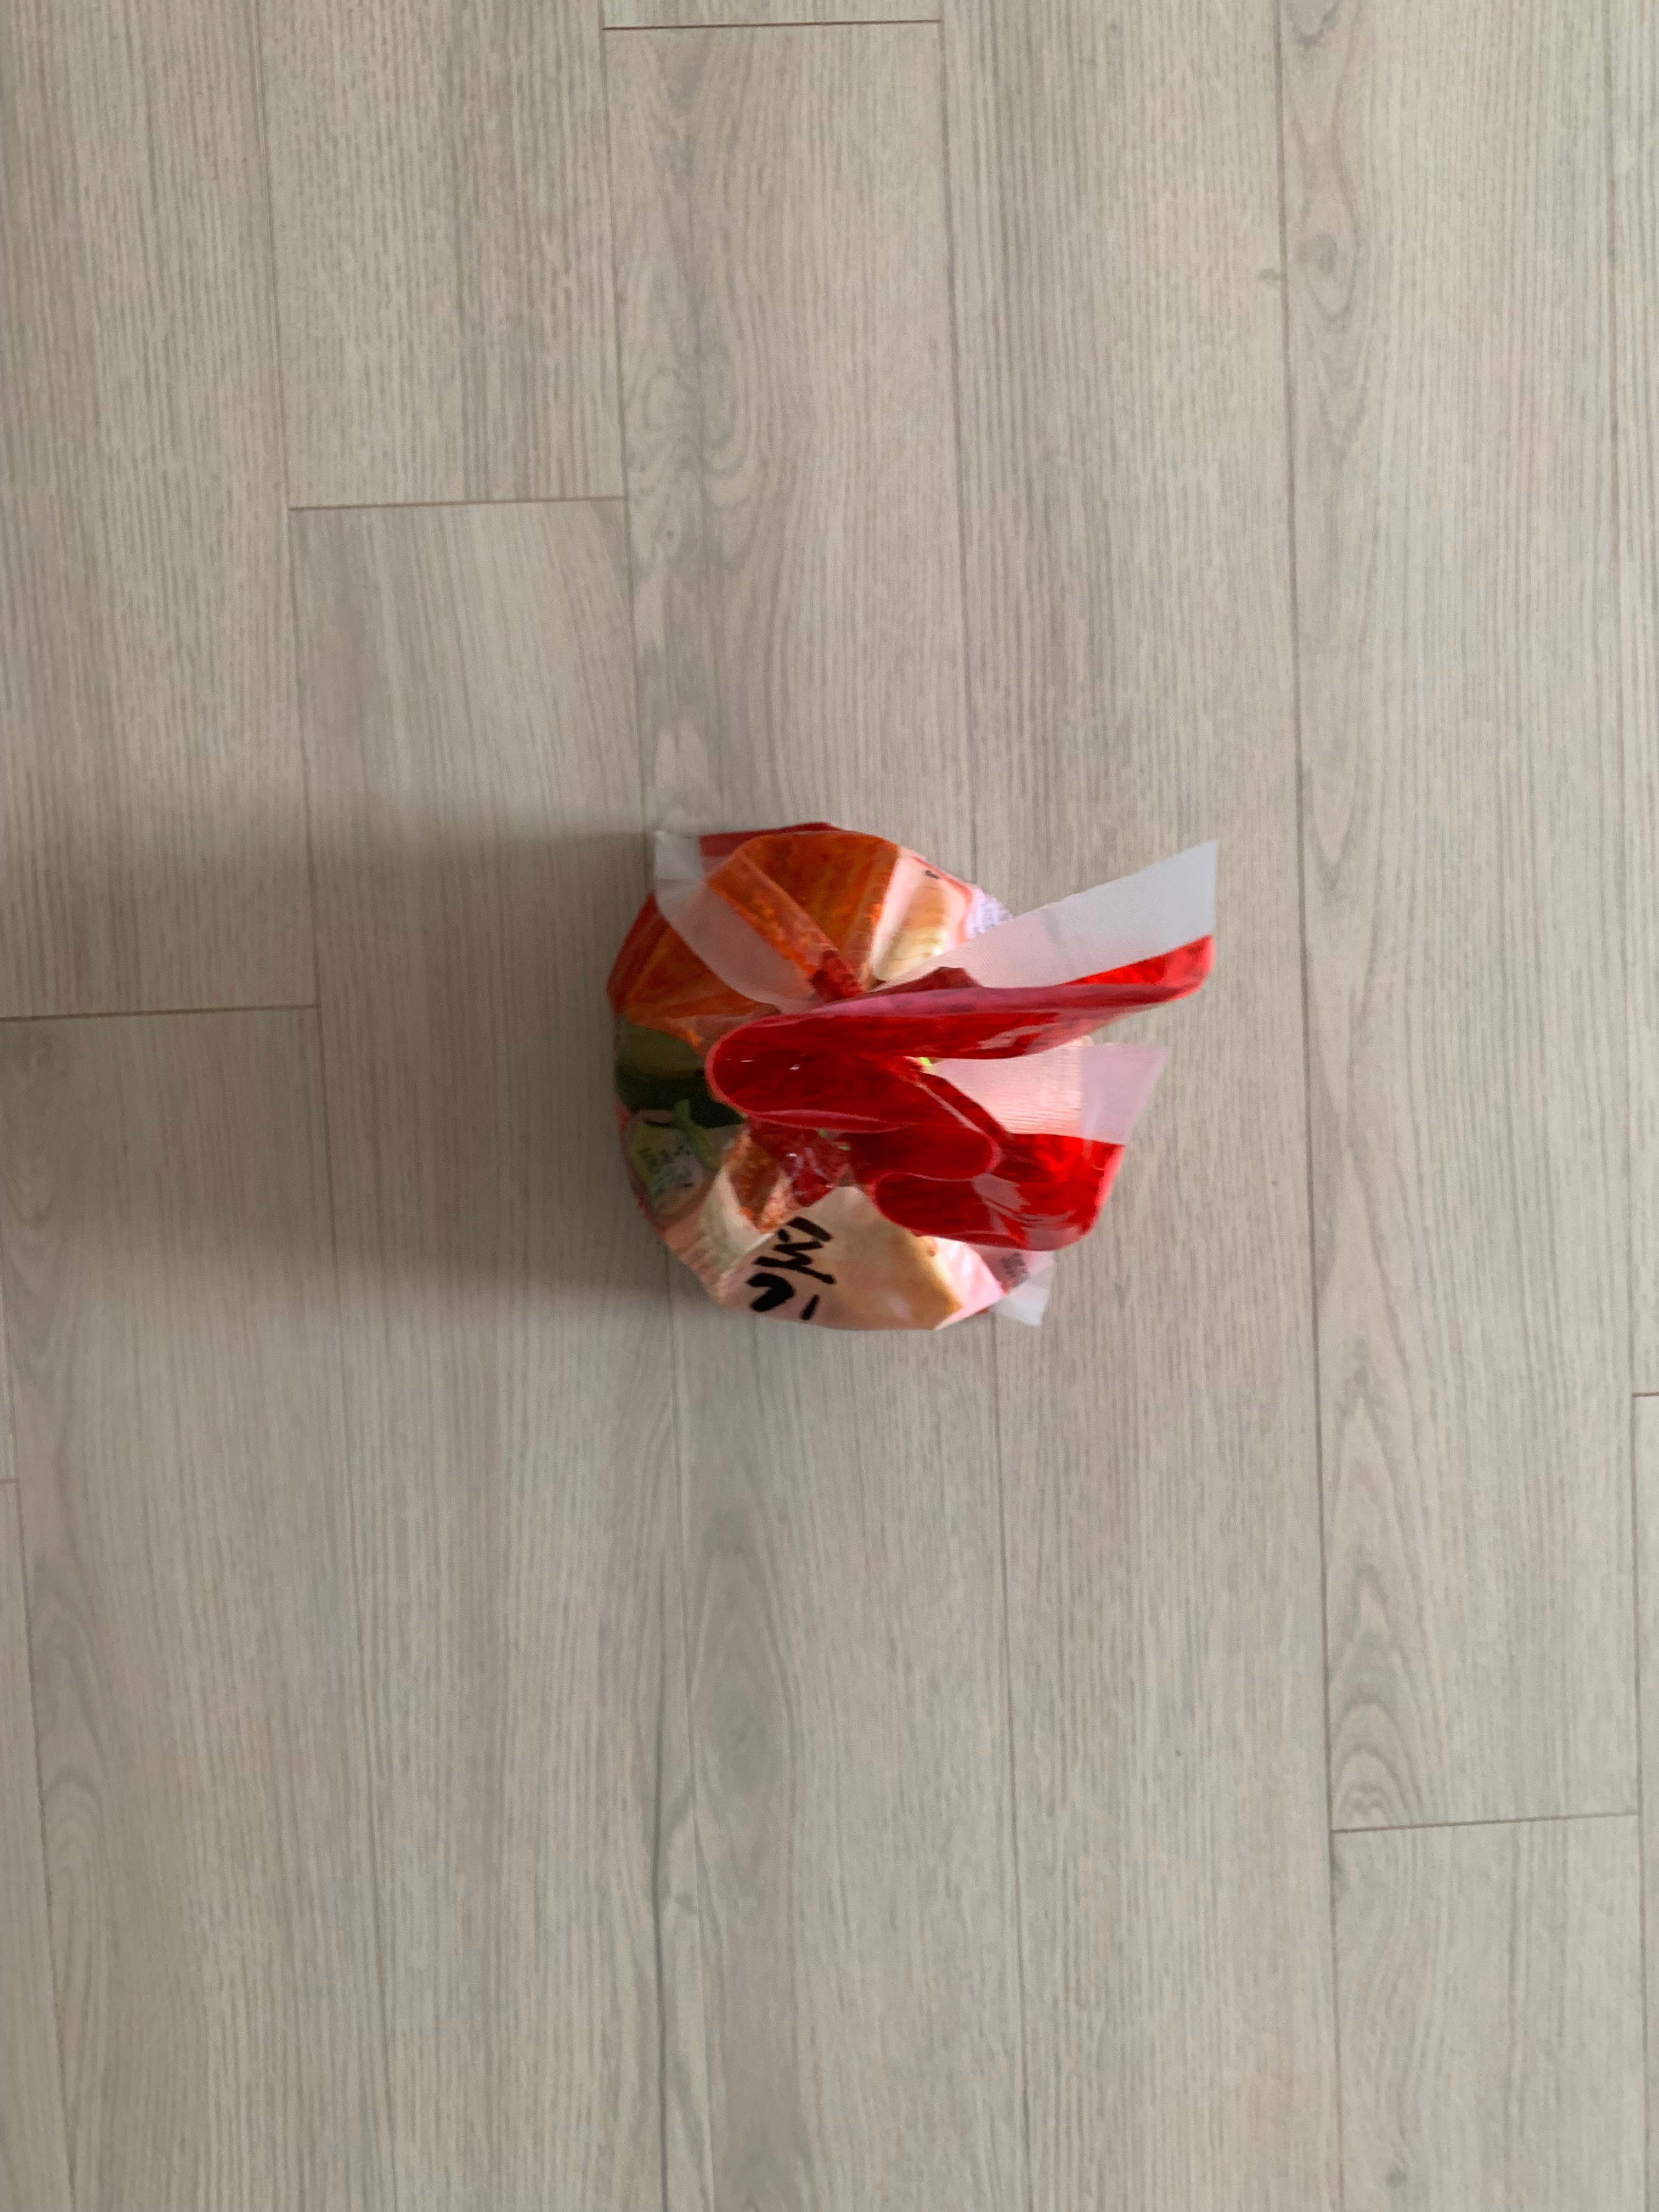kimchi: (606, 820, 1187, 1339)
